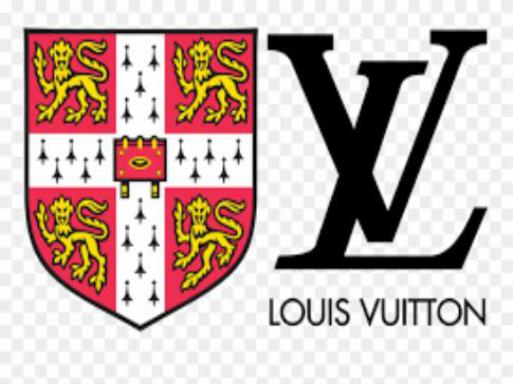LOUIS-VUITTON: (262, 18, 504, 279), (250, 291, 494, 344)
